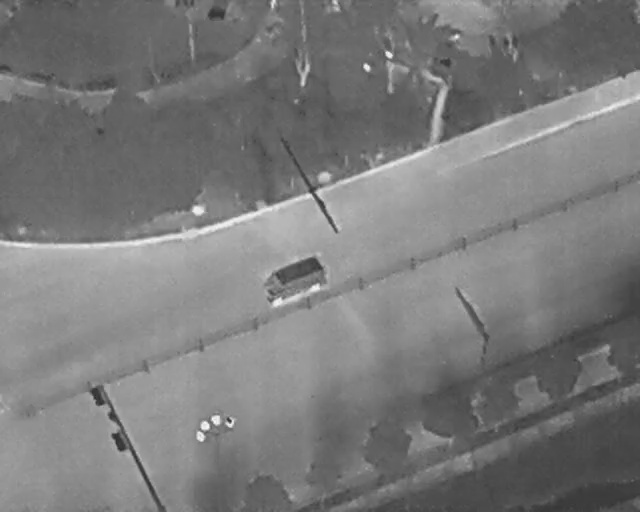OtherVehicle: (255, 250, 333, 313)
